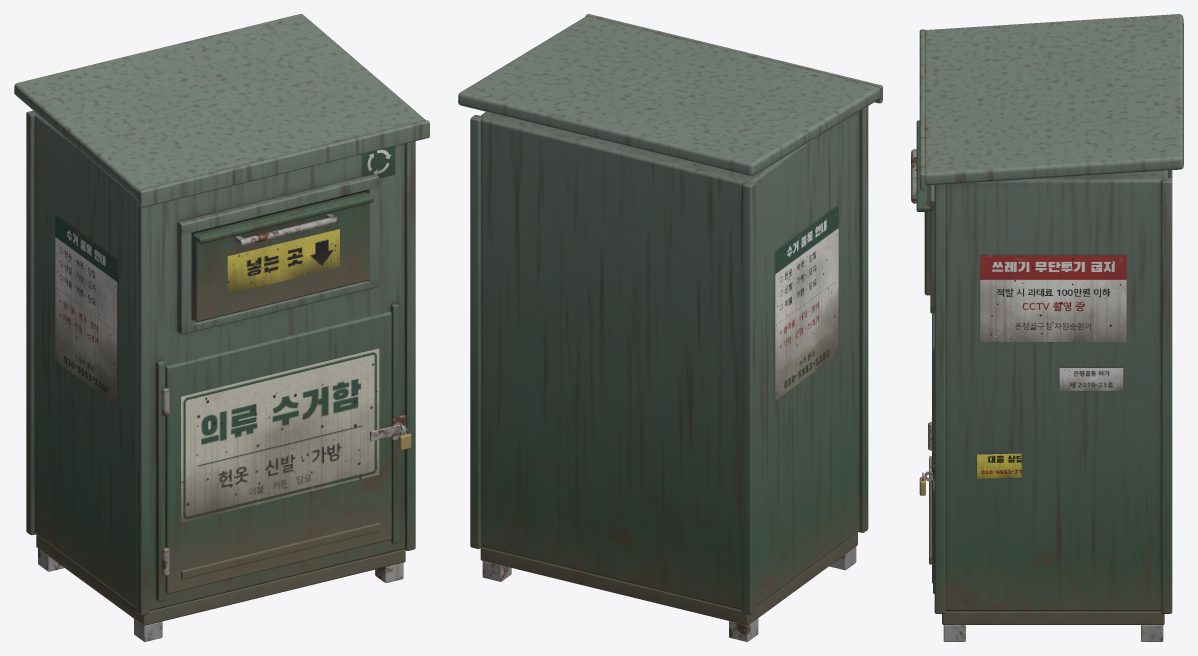
Rendered from StreetClothingBin.fbx.
3 renders of one model, left to right at view 1: azimuth 30°, elevation 25°; view 2: azimuth 150°, elevation 25°; view 3: azimuth 270°, elevation 25°, orthographic. The views are drawn at different scales.
Parts seen in each view (by area): view 1: StreetClothingBin_Body, StreetClothingBin_Door, StreetClothingBin_Hopper; view 2: StreetClothingBin_Body; view 3: StreetClothingBin_Body, StreetClothingBin_Hopper, StreetClothingBin_Door.
Boxes of the visible parts, box(x1,y1,x2,y2) form: StreetClothingBin_Body: box(14, 14, 429, 641); StreetClothingBin_Door: box(165, 311, 411, 593); StreetClothingBin_Hopper: box(192, 192, 373, 321); StreetClothingBin_Body: box(458, 14, 882, 641); StreetClothingBin_Body: box(919, 14, 1183, 641); StreetClothingBin_Hopper: box(911, 120, 930, 295); StreetClothingBin_Door: box(919, 313, 934, 583).
Size of the model in its own units: 1.08 by 1.71 by 0.8567.
